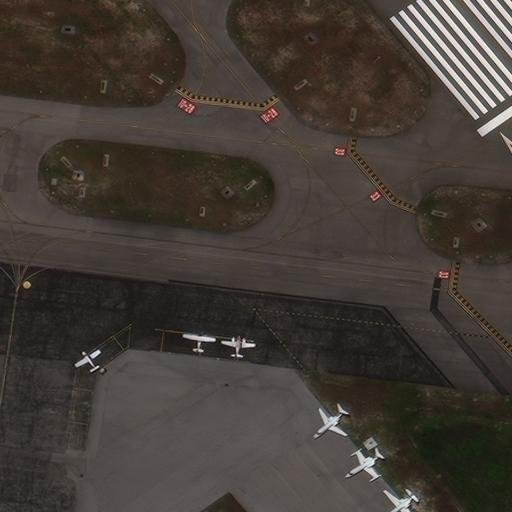Medium Civil Transport: (382, 490, 415, 511)
Small Civil Transport: (313, 407, 346, 437), (344, 452, 380, 478), (221, 333, 255, 358), (182, 331, 215, 352), (74, 349, 99, 370)
